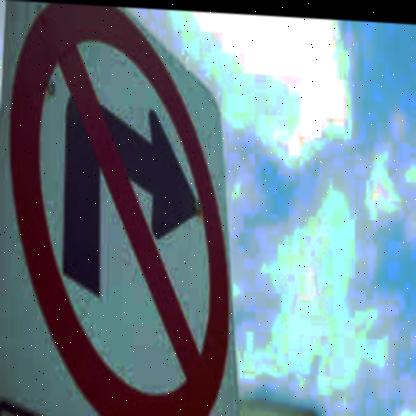No right turn: (0, 0, 244, 416)
